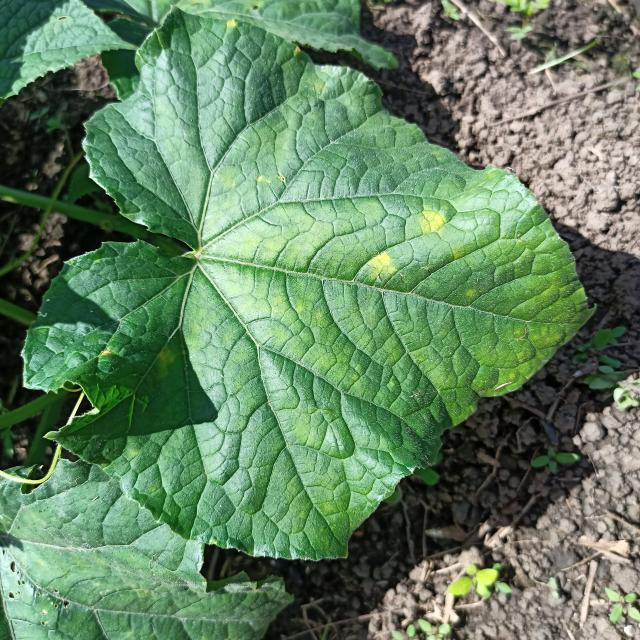disease_cucumber: (416, 207, 450, 237), (370, 252, 394, 276), (227, 20, 236, 28)
